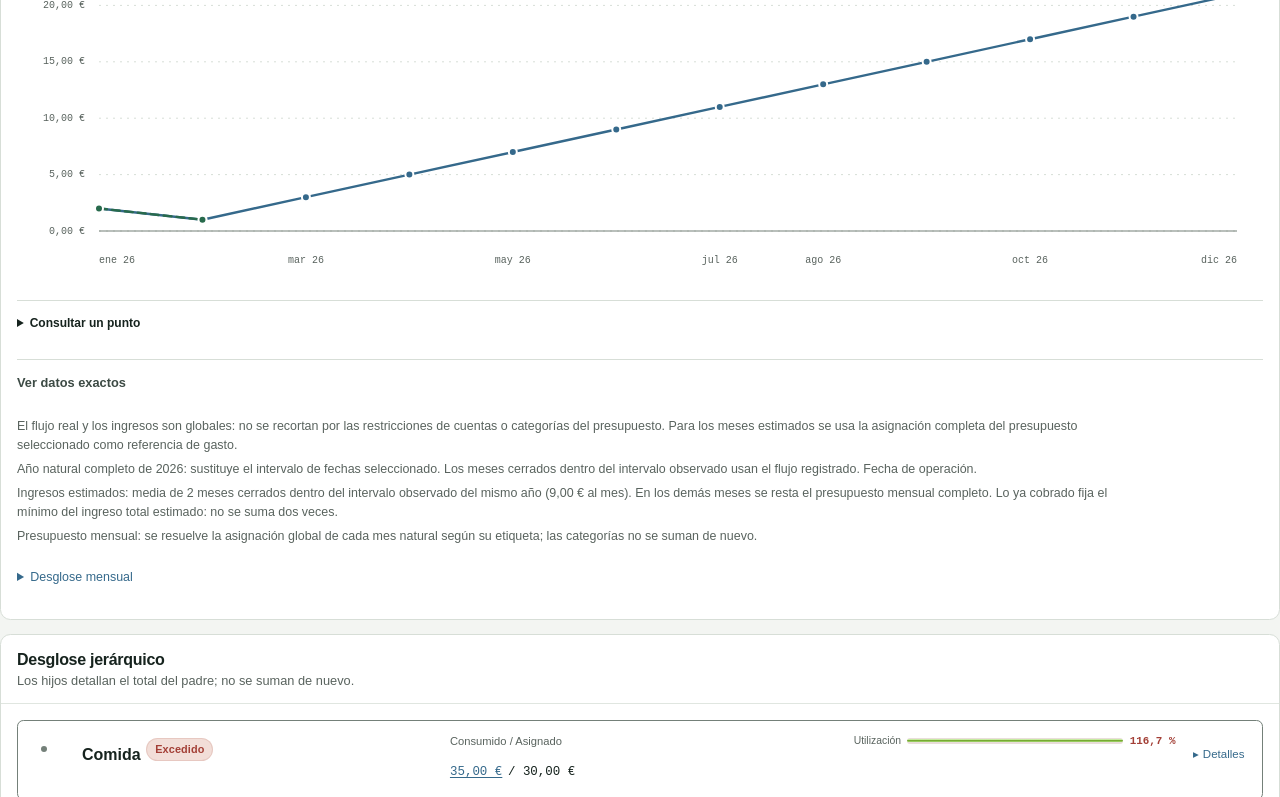
Test: BudgetsPageView › shows a cumulative Jan–Dec trajectory with real/estimated evidence and December total
(page scrolled)
What coordinates should you click on to do the following:
click the heading "Ver datos exactos"
I would click on:
 (71, 382)
Its box is [17, 375, 126, 390].
(page scrolled)
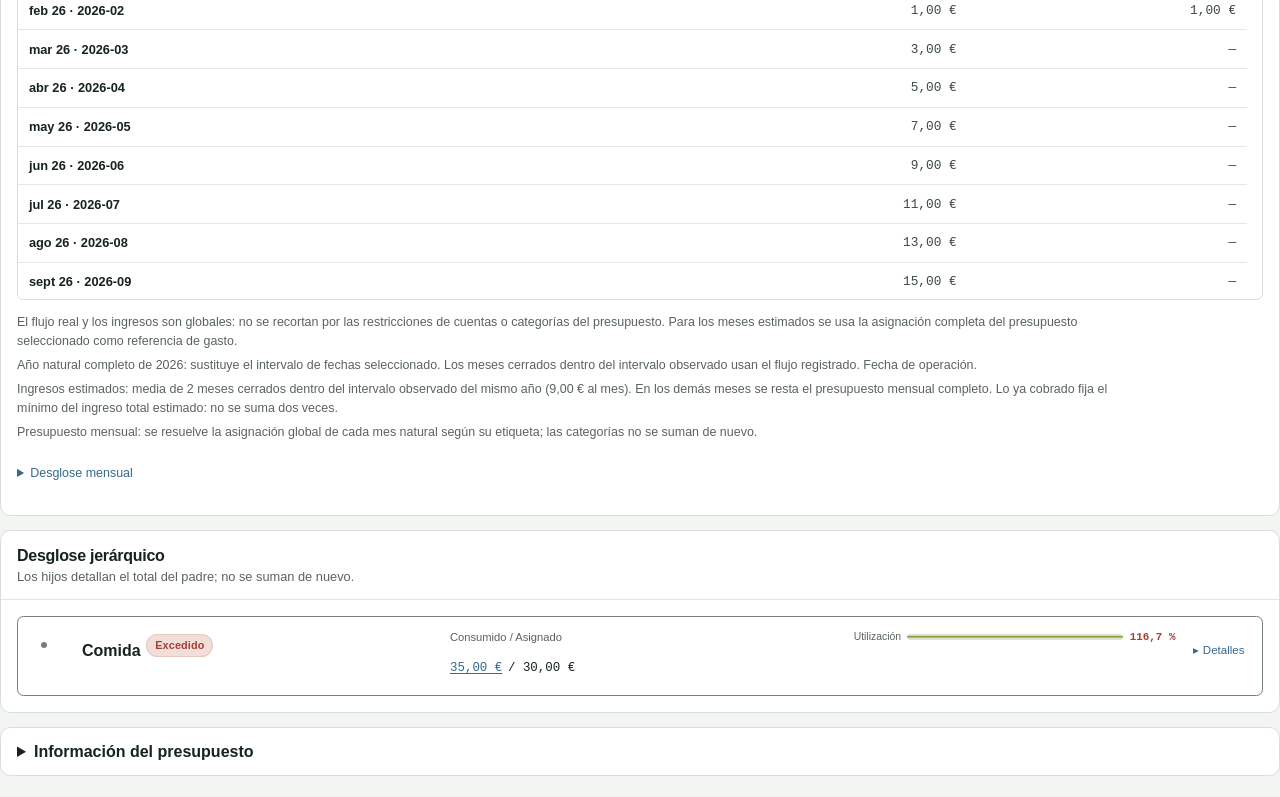
expect the row "mar 26 · 2026-03 3,00 € —" is shown: met, box [18, 30, 1247, 69]
What coordinates should you click on to do the following:
click the heading "Desglose mensual"
I would click on:
 (82, 473)
Its box is [30, 466, 133, 480].
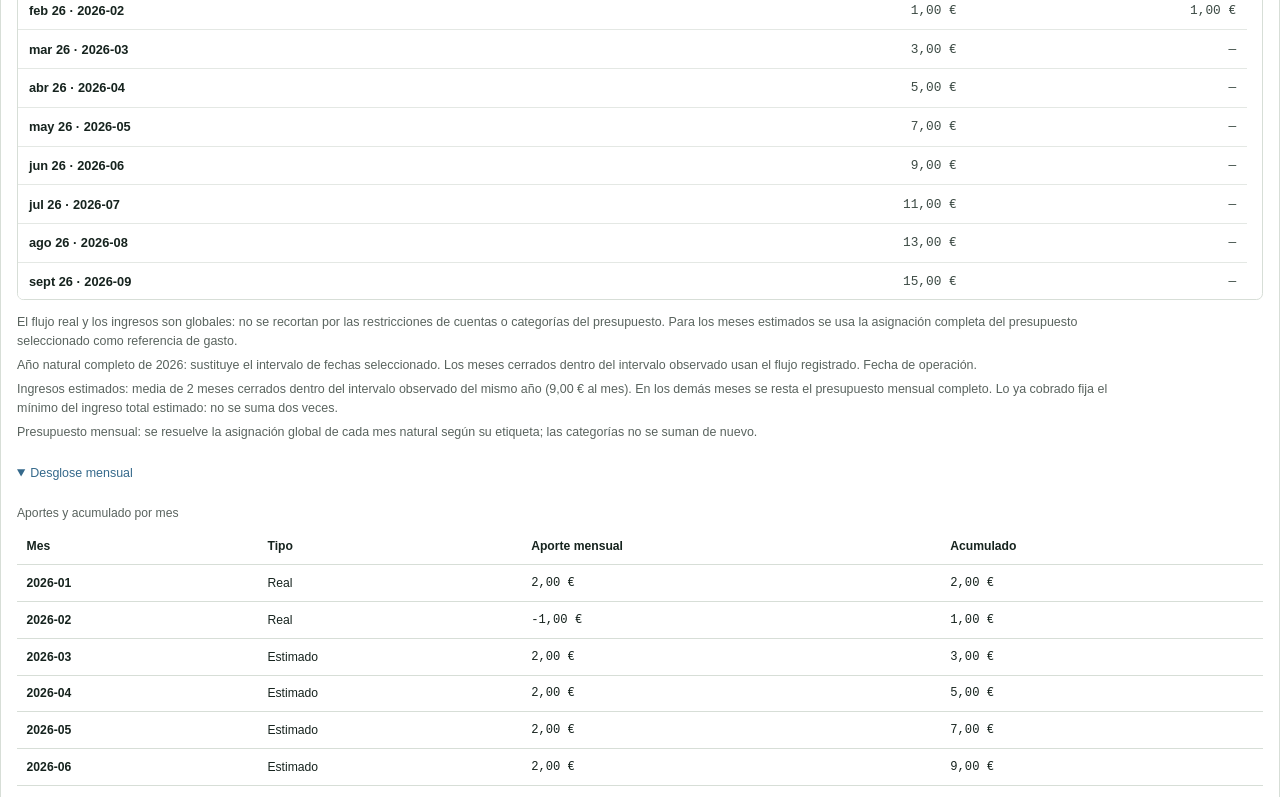
expect the row "2026-02 Real -1,00 € 1,00 €" is shown: met, box [17, 601, 1263, 638]
expect the row "2026-03 Estimado 2,00 € 3,00 €" is shown: met, box [17, 638, 1263, 675]
